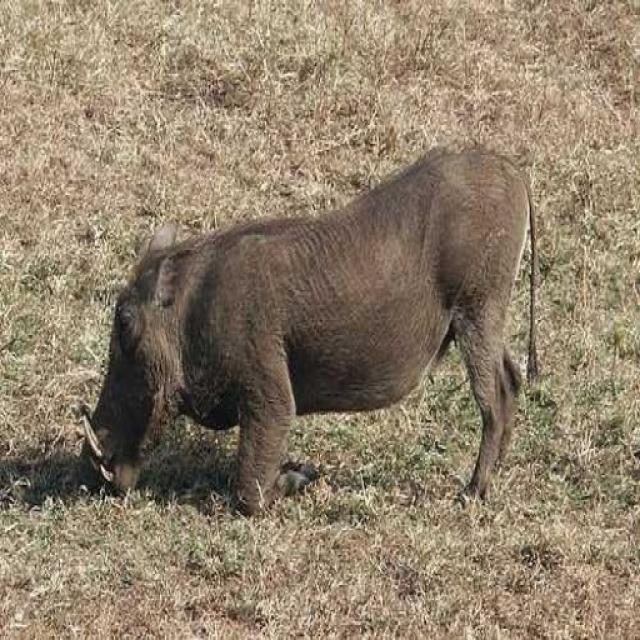pig: (0, 95, 593, 498)
